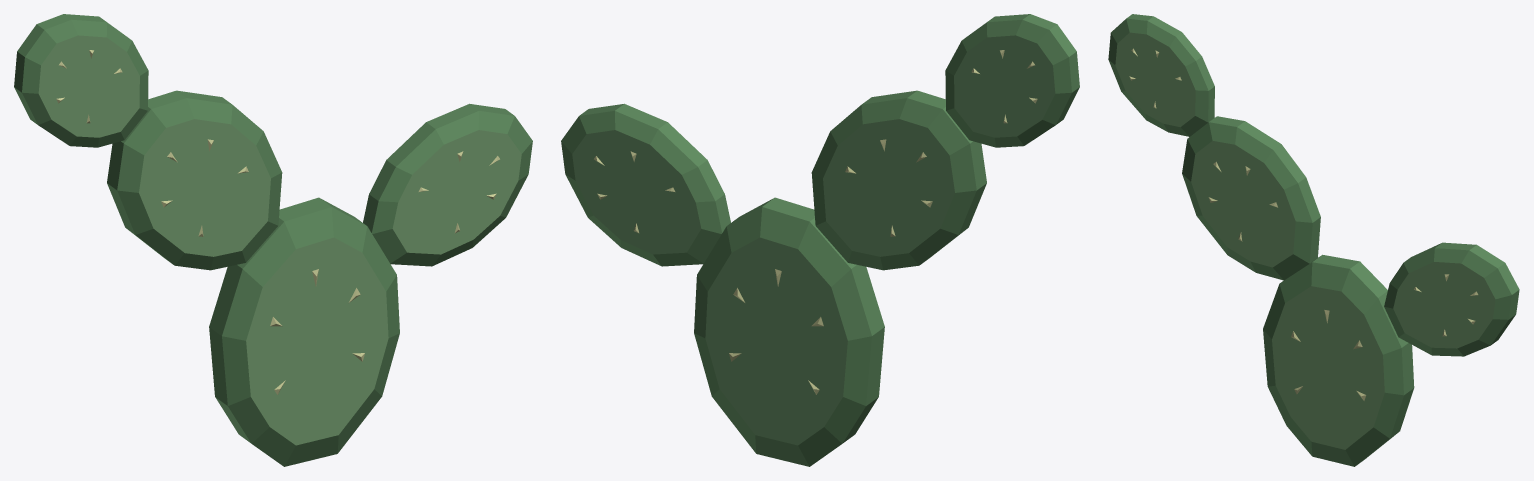
3 views of the same model, side by side, from view 1: azimuth 30°, elevation 25°; view 2: azimuth 150°, elevation 25°; view 3: azimuth 330°, elevation 25° (orthographic). The views are drawn at different scales.
Parts seen in each view (by area): view 1: Paddle_GroundedBasal, Paddle_LeftAscending, Paddle_RightOutward, Paddle_LeftTerminal; view 2: Paddle_GroundedBasal, Paddle_LeftAscending, Paddle_RightOutward, Paddle_LeftTerminal; view 3: Paddle_GroundedBasal, Paddle_LeftAscending, Paddle_RightOutward, Paddle_LeftTerminal.
Part boxes in pixels (x1,y1,x2,y2): Paddle_GroundedBasal: (209,197,399,466); Paddle_LeftAscending: (107,90,282,270); Paddle_RightOutward: (363,103,532,266); Paddle_LeftTerminal: (14,14,148,147); Paddle_GroundedBasal: (694,197,884,466); Paddle_LeftAscending: (811,90,986,270); Paddle_RightOutward: (561,103,730,266); Paddle_LeftTerminal: (945,14,1079,147); Paddle_GroundedBasal: (1263,254,1414,466); Paddle_LeftAscending: (1182,116,1320,280); Paddle_RightOutward: (1384,242,1519,356); Paddle_LeftTerminal: (1108,14,1214,136).
Size of the model in its own units: 1.72 by 1.6 by 0.162.
